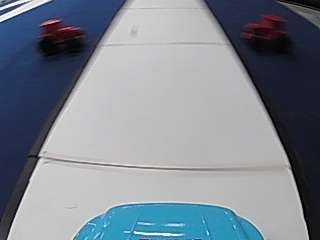tractor: (240, 13, 289, 53), (37, 17, 85, 56)
